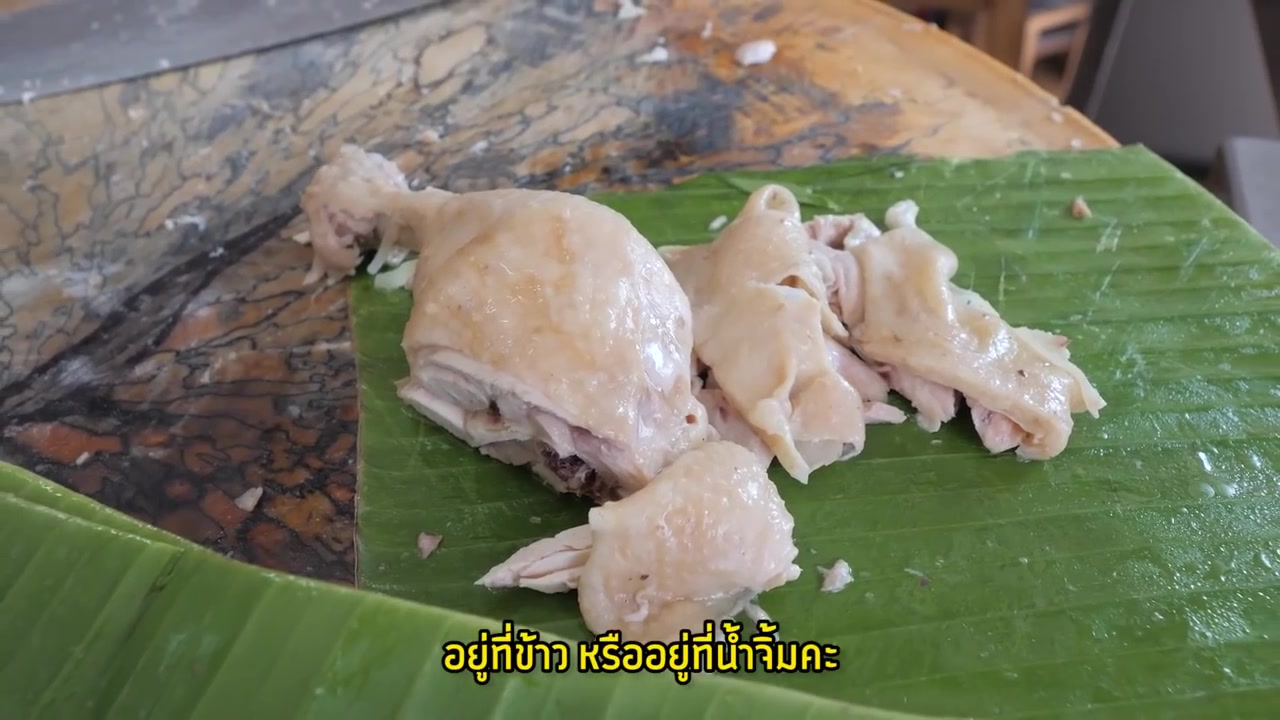text-label: (438, 617, 841, 689)
